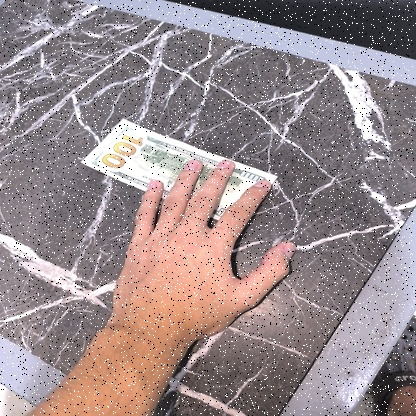one_hundred-back: (80, 116, 277, 237)
